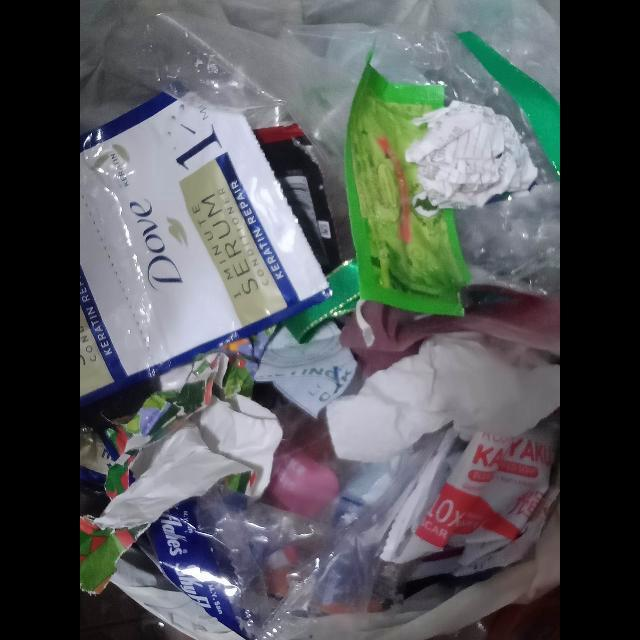paper: (80, 350, 283, 596), (325, 332, 560, 467), (406, 100, 538, 212)
plastic_sachet: (80, 93, 332, 413), (344, 57, 471, 318), (381, 419, 560, 588)
